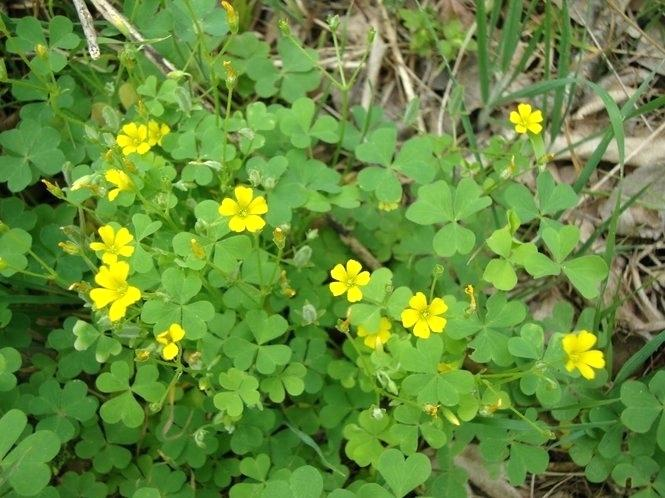oxalis: (94, 97, 589, 445)
